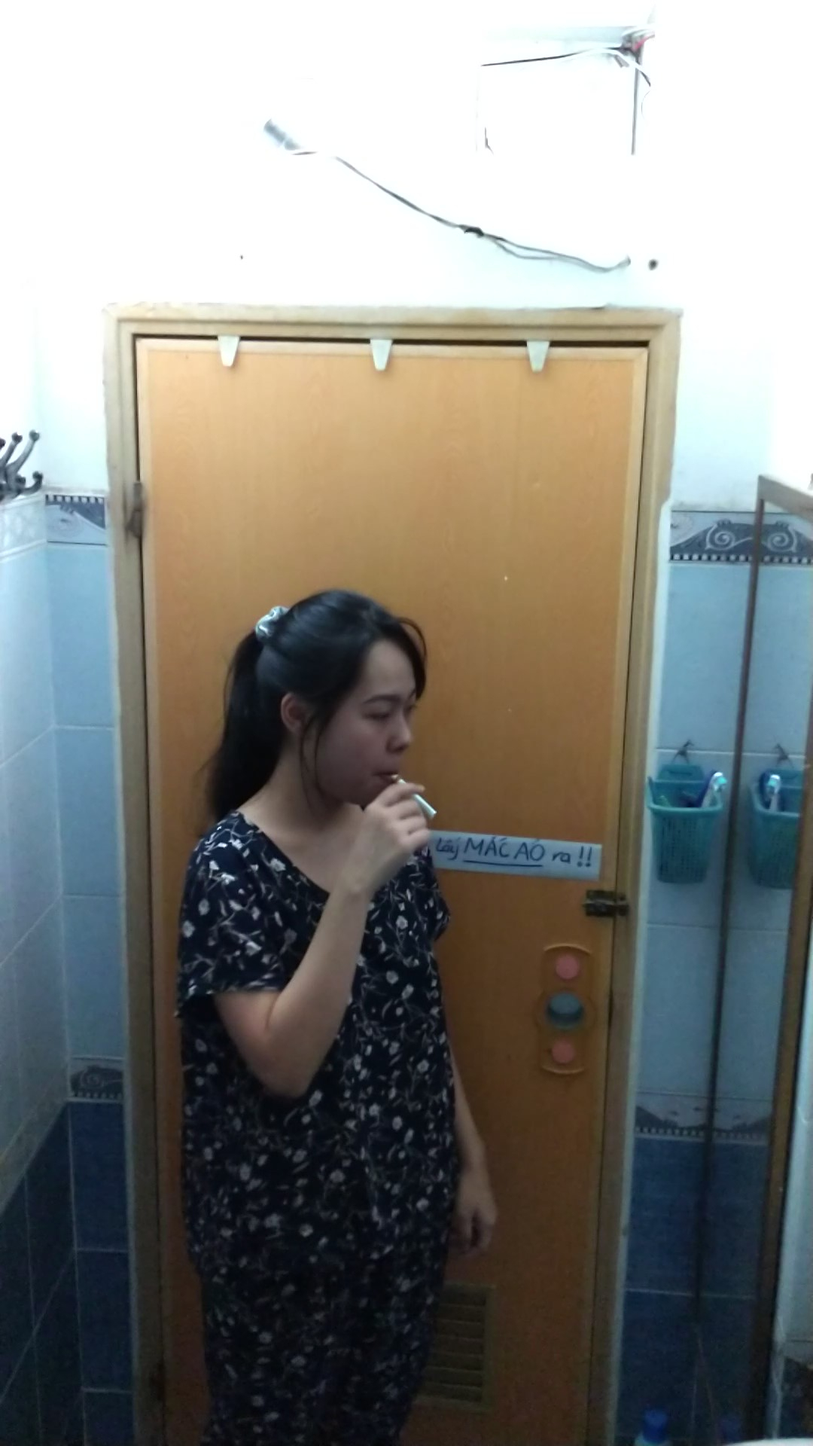cigarette: (413, 792, 444, 825)
person: (169, 577, 476, 1441)
